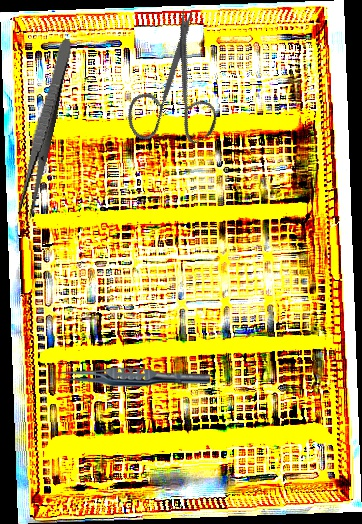Dressing Forceps: (14, 36, 75, 221)
Iris Scissors: (92, 5, 252, 168)
Tissue Forceps: (56, 367, 210, 387)
